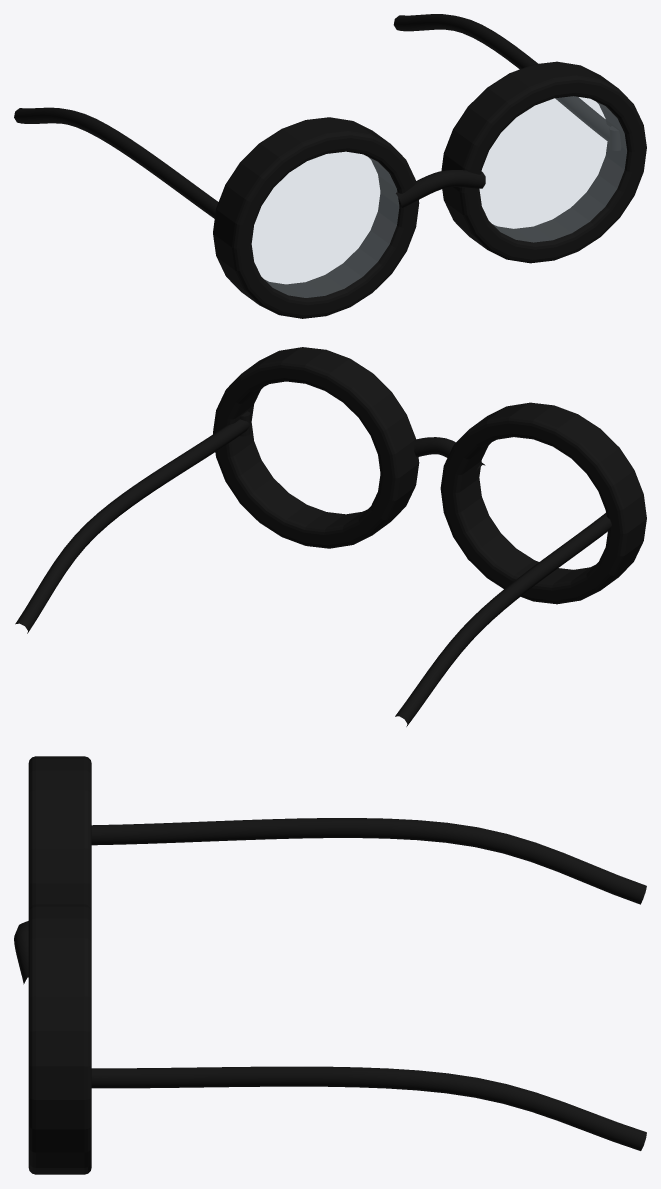
Rendered from aero-round-black.glb.
3 renders of one model, top to bottom at view 1: azimuth 30°, elevation 25°; view 2: azimuth 150°, elevation 25°; view 3: azimuth 270°, elevation 25°, orthographic. The views are drawn at different scales.
Parts seen in each view (by area): view 1: LeftRim_FrameMesh, RightRim_FrameMesh, LeftLens, RightLens, LeftTemple_FrameMesh, RightTemple_FrameMesh, Bridge_FrameMesh; view 2: RightRim_FrameMesh, LeftRim_FrameMesh, RightTemple_FrameMesh, LeftTemple_FrameMesh, Bridge_FrameMesh; view 3: RightRim_FrameMesh, RightTemple_FrameMesh, LeftTemple_FrameMesh, LeftRim_FrameMesh, Bridge_FrameMesh.
Part boxes in pixels (x1,y1,x2,y2): LeftRim_FrameMesh: (213, 117, 419, 318); RightRim_FrameMesh: (441, 61, 646, 263); LeftLens: (252, 152, 398, 297); RightLens: (480, 96, 626, 242); LeftTemple_FrameMesh: (14, 107, 218, 218); RightTemple_FrameMesh: (393, 14, 609, 142); Bridge_FrameMesh: (394, 170, 485, 207); RightRim_FrameMesh: (213, 347, 419, 548); LeftRim_FrameMesh: (440, 402, 646, 604); RightTemple_FrameMesh: (15, 419, 249, 633); LeftTemple_FrameMesh: (395, 513, 611, 726); Bridge_FrameMesh: (414, 437, 485, 471); RightRim_FrameMesh: (28, 904, 91, 1174); RightTemple_FrameMesh: (91, 1066, 646, 1150); LeftTemple_FrameMesh: (91, 818, 646, 904); LeftRim_FrameMesh: (28, 756, 91, 910); Bridge_FrameMesh: (14, 921, 28, 984).
Size of the model in its own units: 131 by 55.02 by 130.
